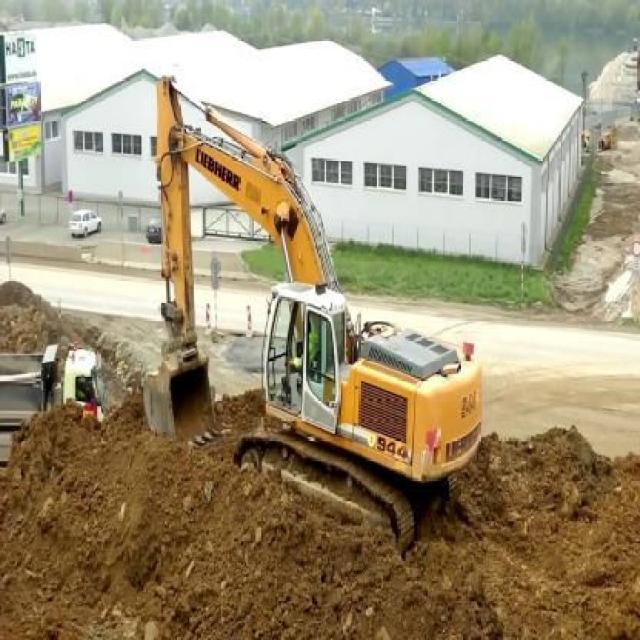dump_truck: (0, 338, 108, 442)
excavator: (138, 63, 485, 559)
